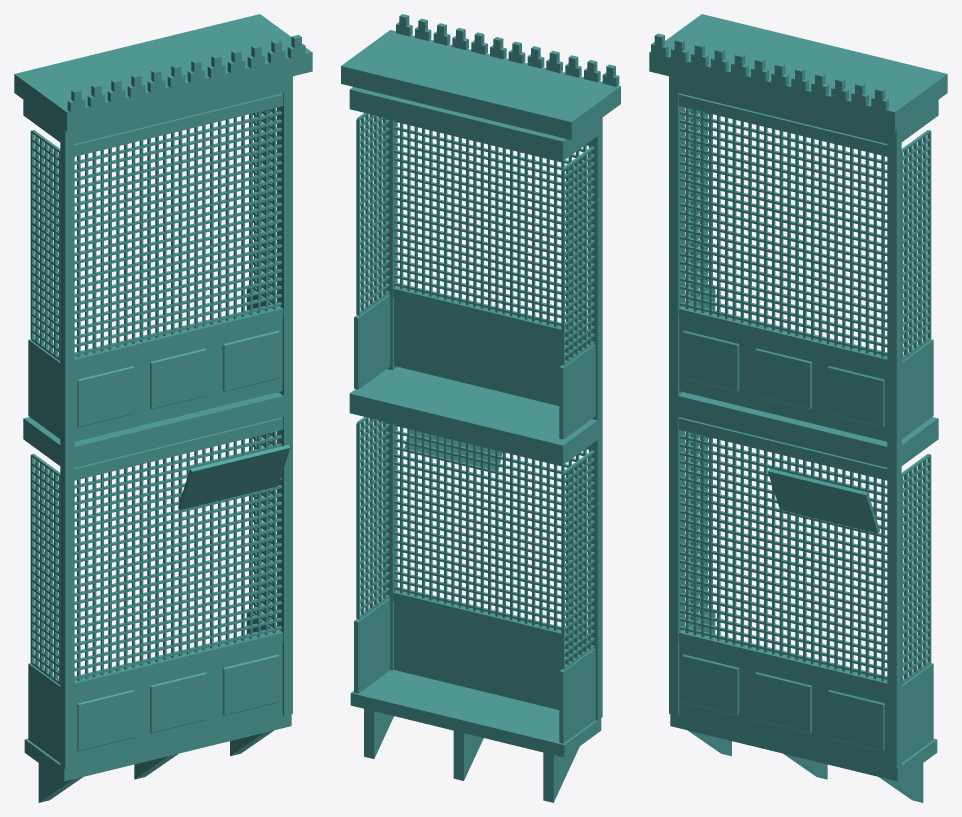
Rendered from SM_Roshan_2F.fbx.
3 views of the same model, side by side, from view 1: azimuth 30°, elevation 25°; view 2: azimuth 150°, elevation 25°; view 3: azimuth 330°, elevation 25° (orthographic). The views are drawn at different scales.
Parts seen in each view (by area): view 1: SM_Roshan_2F; view 2: SM_Roshan_2F; view 3: SM_Roshan_2F.
Boxes of the visible parts, x1=… form: SM_Roshan_2F: x1=14, y1=14, x2=312, y2=802; SM_Roshan_2F: x1=341, y1=14, x2=620, y2=802; SM_Roshan_2F: x1=649, y1=14, x2=947, y2=802.
Size of the model in its own units: 270 by 789 by 106.
